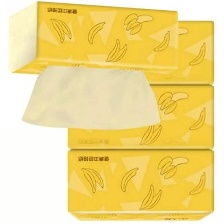tissue: (0, 0, 184, 137), (61, 144, 221, 224), (61, 81, 221, 156), (61, 16, 221, 89)
